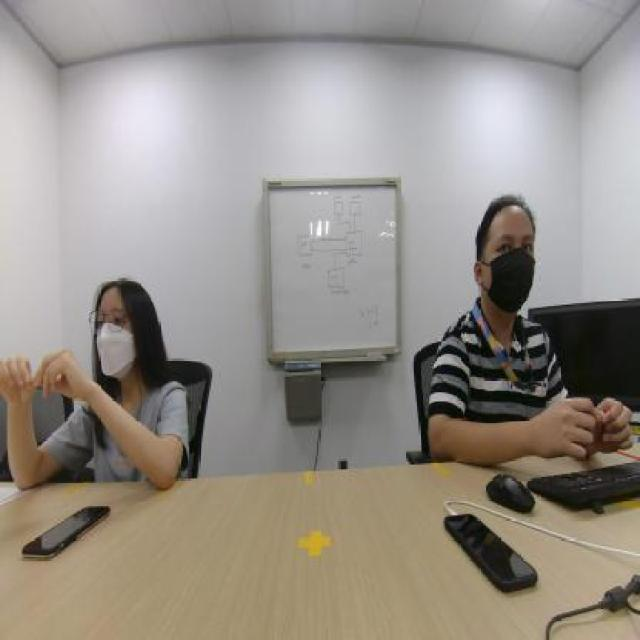Person: (47, 226, 193, 472), (439, 182, 570, 435)
